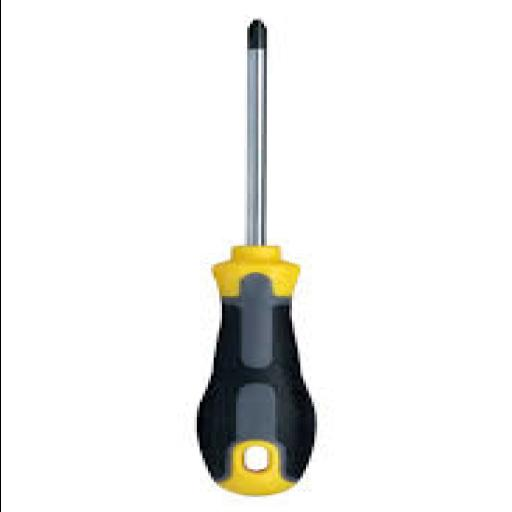screwdriver: (196, 21, 316, 497)
